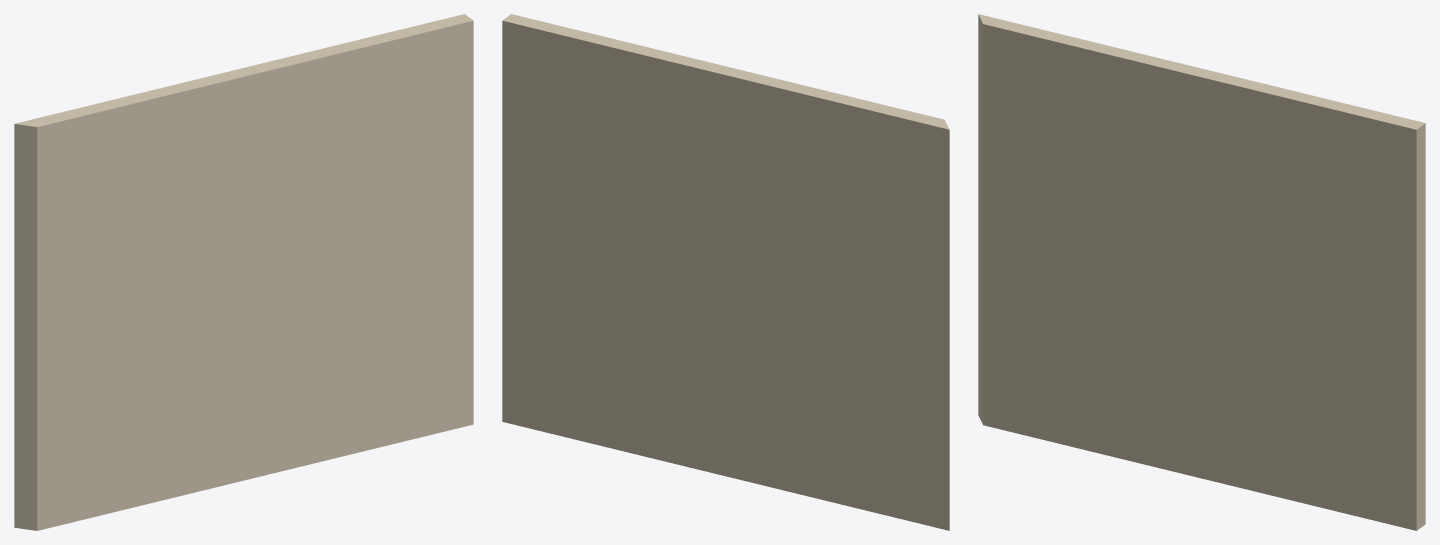
The model's file is wall-18.glb.
The picture shows the model from 3 angles, left to right: view 1: azimuth 30°, elevation 25°; view 2: azimuth 150°, elevation 25°; view 3: azimuth 330°, elevation 25°; orthographic projection.
Size of the model in its own units: 9.34 by 8 by 0.3282.
